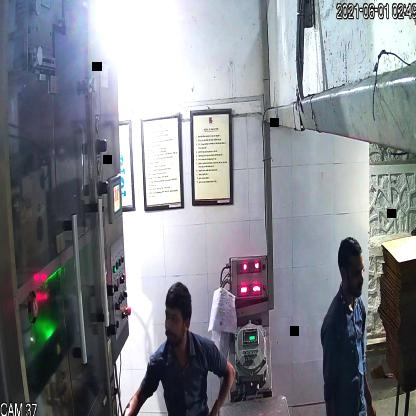no_goggles: (159, 306, 193, 332)
